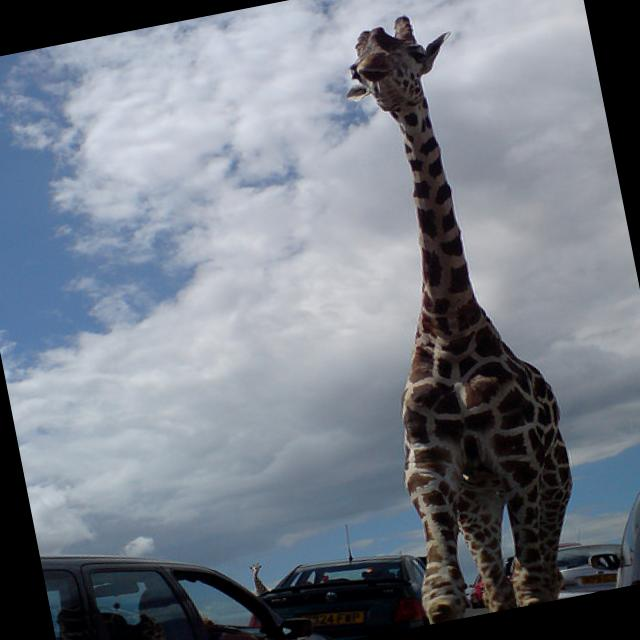Vehicle: (39, 497, 340, 640), (259, 537, 439, 640), (575, 474, 640, 593), (549, 538, 625, 592)
